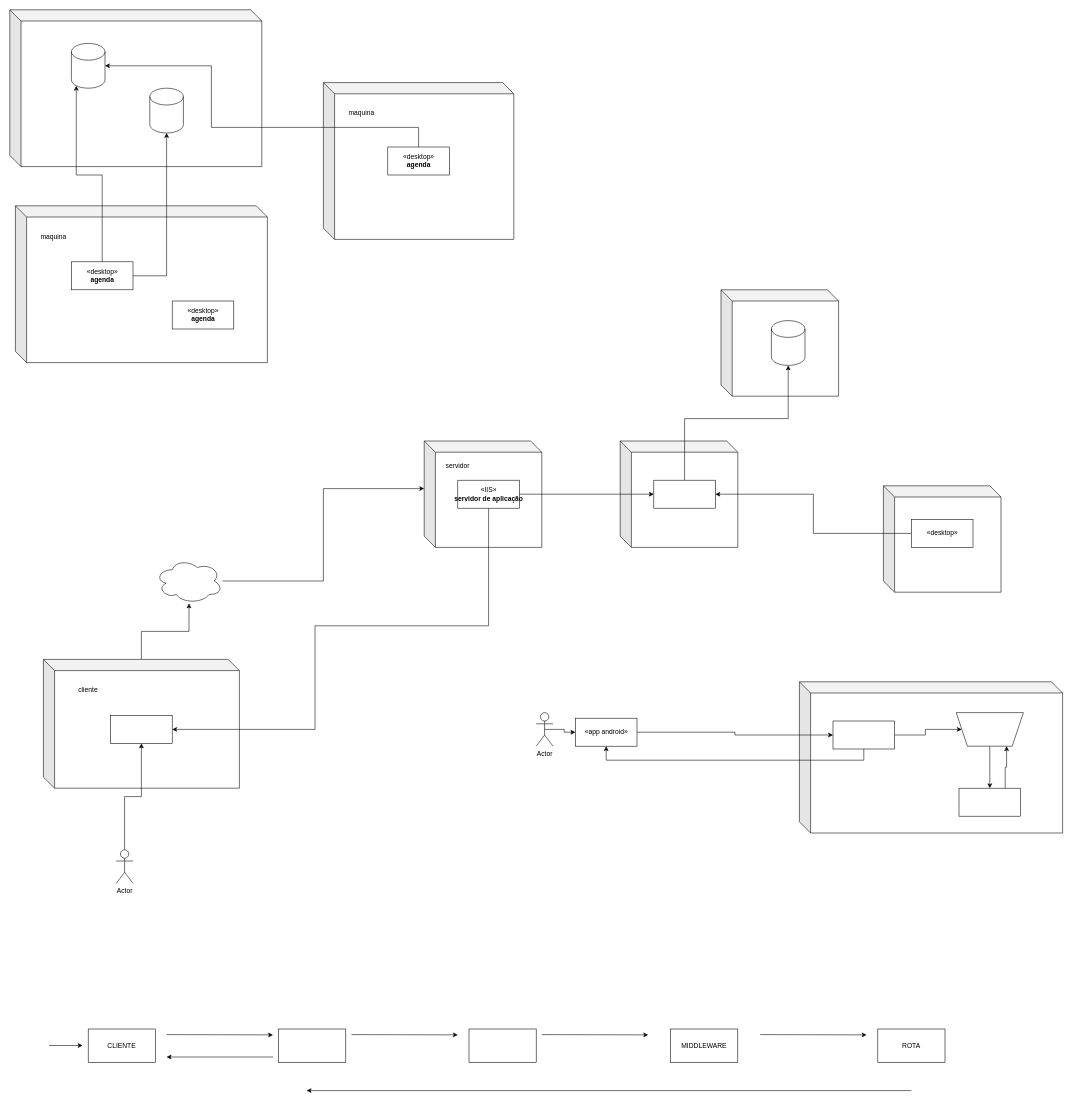
The diagram is 1072 pixels wide and 1105 high, and some of its shapes have lost their labels. The box of each missing label's shape, as (x1, y1, x2, y2) in pixels:
MIDDLEWARE json Parser: (468, 1028, 536, 1063)
SERVICO: (278, 1028, 346, 1063)
«api»: (832, 720, 895, 749)
«browser» google chrome: (110, 715, 172, 743)
«IIS»: (653, 480, 715, 508)
«worker»: (958, 788, 1021, 816)
